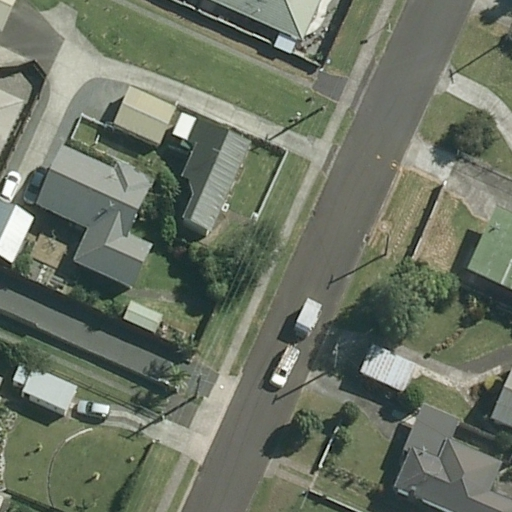DT: (190, 371, 209, 400), (312, 100, 337, 117)
